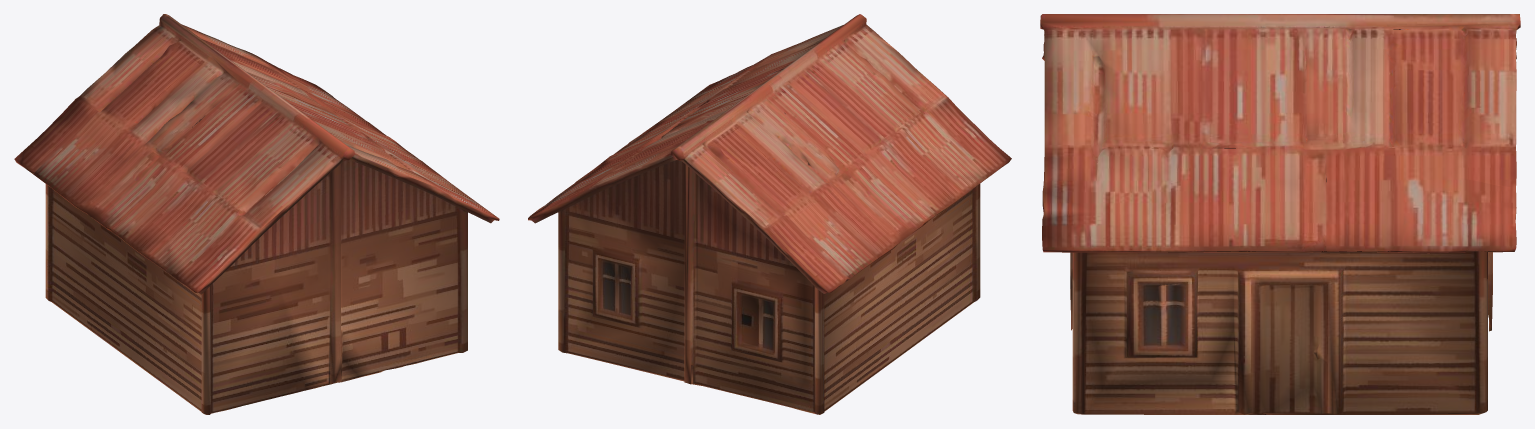
The model's file is demo_cottage_pixel.glb.
The picture shows the model from 3 angles, left to right: view 1: azimuth 30°, elevation 25°; view 2: azimuth 150°, elevation 25°; view 3: azimuth 270°, elevation 25°; orthographic projection. The views are drawn at different scales.
Parts seen in each view (by area): view 1: tripo_node_2cf57b51-864c-4bc2-bb53-7469694dd271.001; view 2: tripo_node_2cf57b51-864c-4bc2-bb53-7469694dd271.001; view 3: tripo_node_2cf57b51-864c-4bc2-bb53-7469694dd271.001.
Boxes of the visible parts, x1,y1,x2,y2 form: tripo_node_2cf57b51-864c-4bc2-bb53-7469694dd271.001: (14, 14, 499, 414); tripo_node_2cf57b51-864c-4bc2-bb53-7469694dd271.001: (528, 14, 1011, 414); tripo_node_2cf57b51-864c-4bc2-bb53-7469694dd271.001: (1040, 14, 1520, 414).
Bounding box in the file's own units: 0.9529 × 0.7329 × 1.
1 material, 1 textured.
